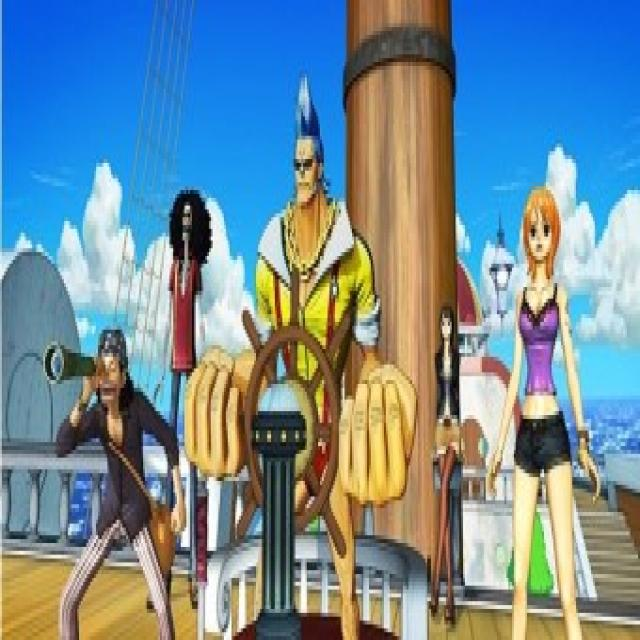Blook: (159, 179, 219, 296)
Franky: (286, 62, 324, 226)
Nami: (510, 187, 560, 291)
NicoRobin: (433, 299, 464, 360)
Usopp: (90, 312, 131, 423)
